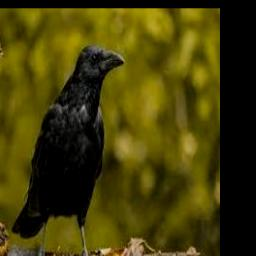Crow: (12, 43, 125, 256)
